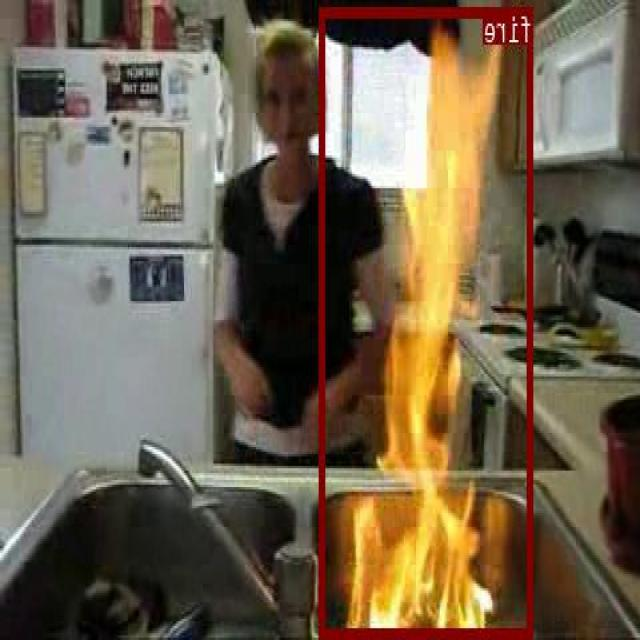fire: (321, 6, 534, 635)
